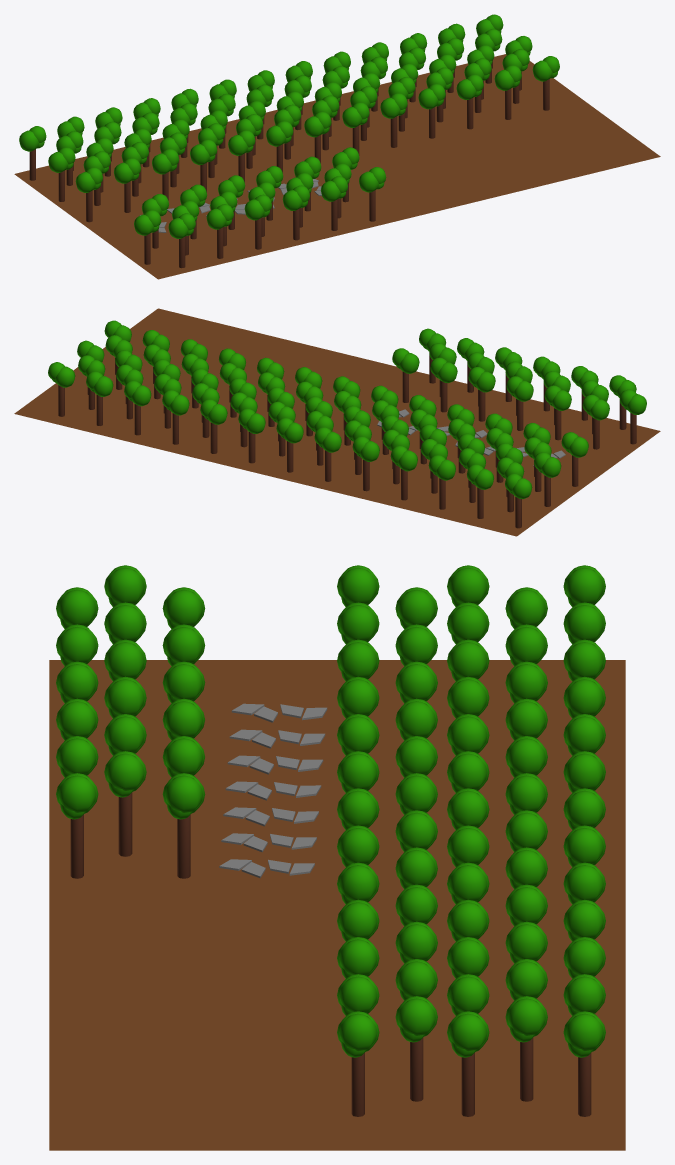
Rendered from zemin.fbx.
3 views of the same model, one above another, from view 1: azimuth 30°, elevation 25°; view 2: azimuth 150°, elevation 25°; view 3: azimuth 270°, elevation 25° (orthographic). The views are drawn at different scales.
Visible parts, largest first — view 1: Cylinder.014; view 2: Cylinder.014; view 3: Cylinder.014.
Part boxes in pixels (box(x1,y1,x2,y2)): Cylinder.014: box(14, 14, 660, 279); Cylinder.014: box(14, 308, 660, 536); Cylinder.014: box(49, 565, 625, 1150).
Bounding box in the file's own units: 9257 × 950 × 4557.
